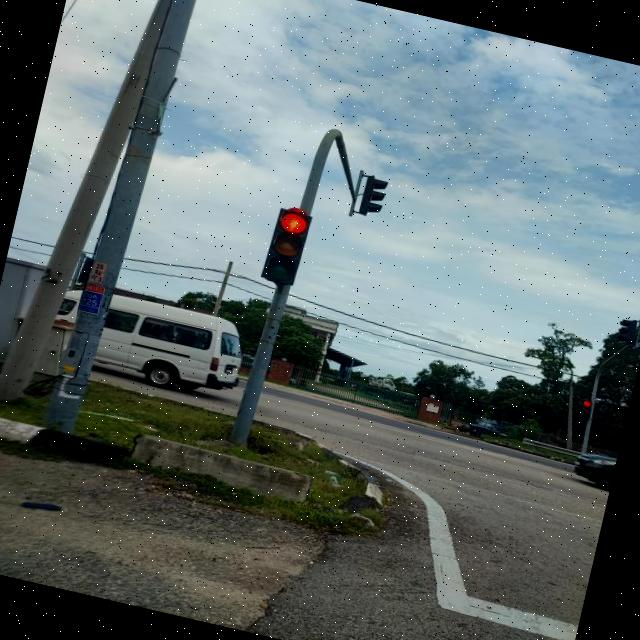red_light: (260, 204, 313, 286), (578, 399, 592, 421)
